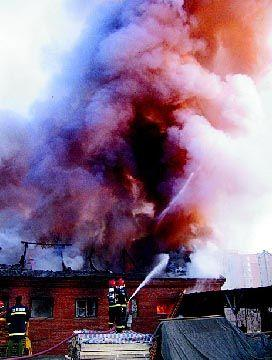smoke: (38, 6, 252, 244)
